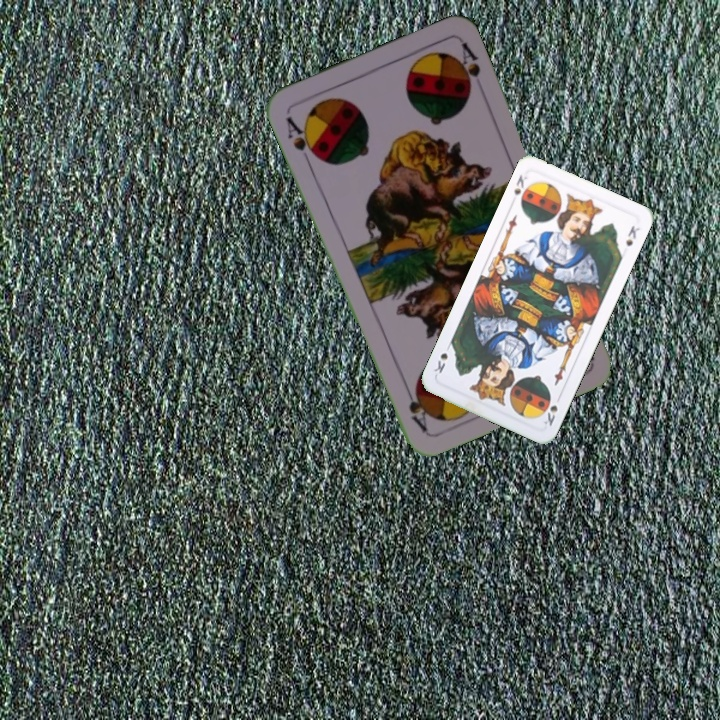SA: (282, 112, 321, 167)
SK: (538, 401, 560, 429), (509, 171, 531, 197)
